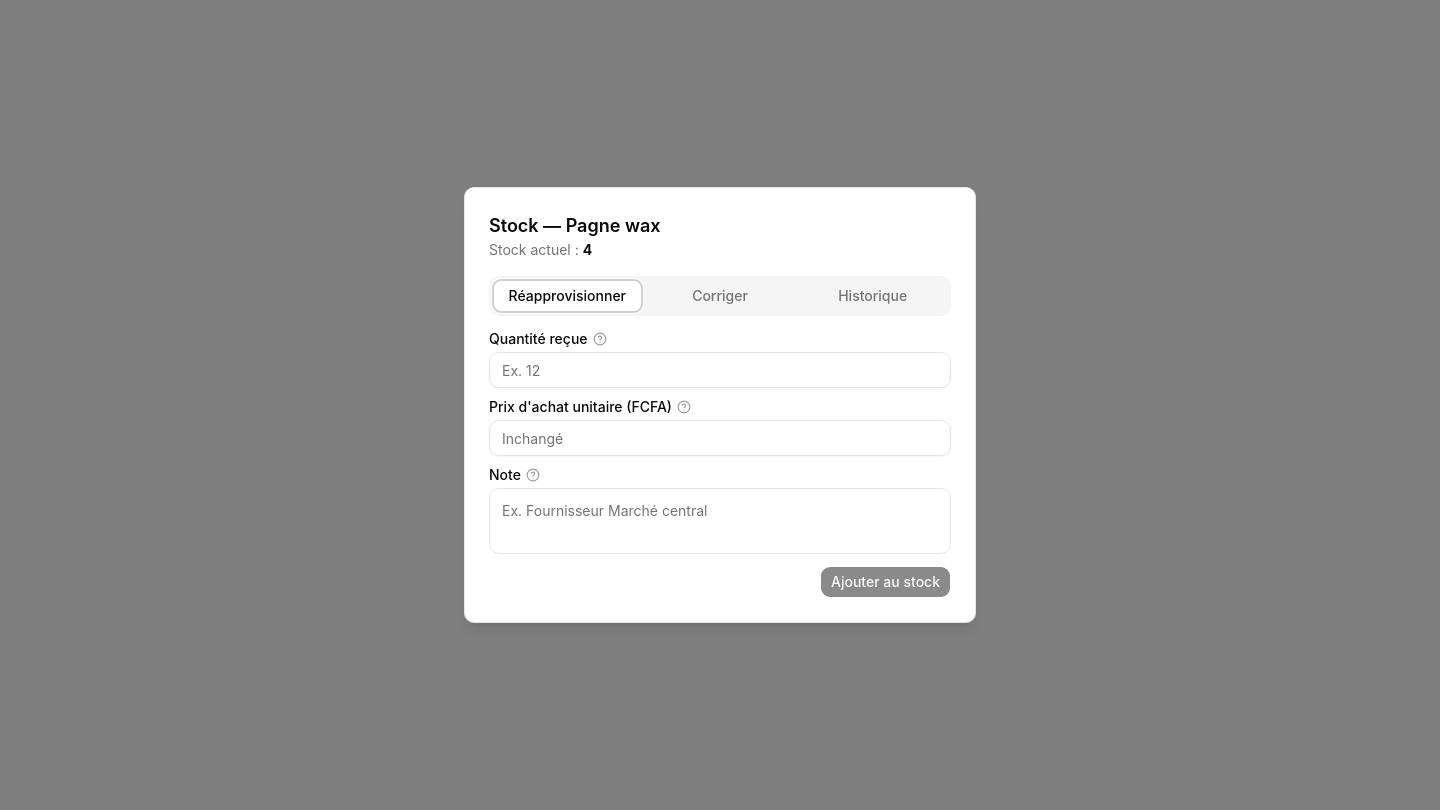
Test: StockDialog › lists each movement with its label, change, stock after, author, order and note
The image size is (1440, 810).
Click the tab "Historique" at (873, 296), box [798,280,947,312]
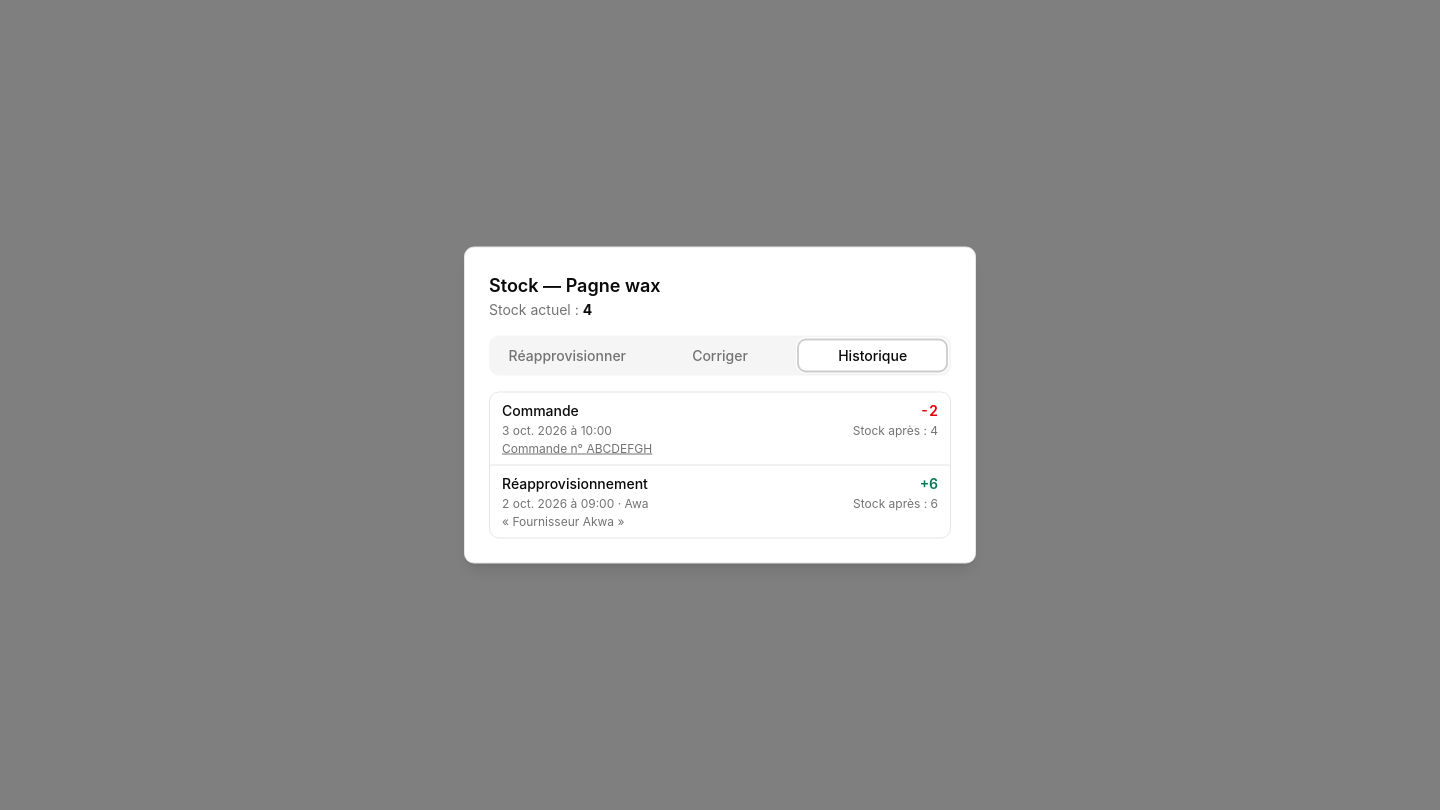
Expected: the text "Commande" is shown, [502,400,579,420]
Expected: the text "-2" is shown, [920,400,938,420]
Expected: the link "Commande n° ABCDEFGH" is shown, [502,440,652,456]
